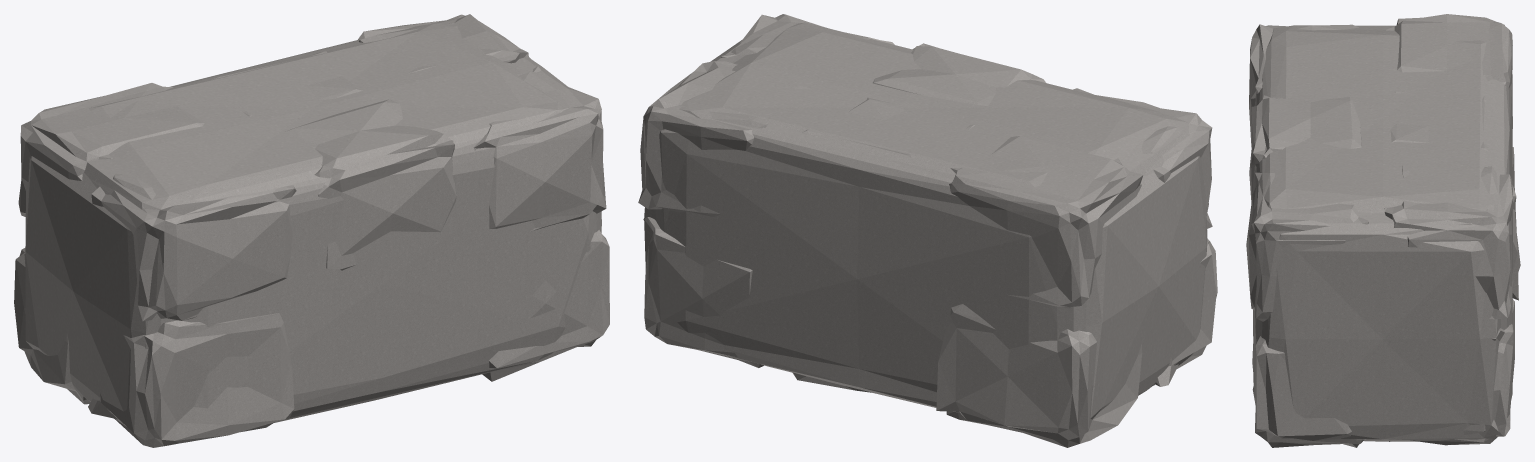
Rendered from concrete_block.glb.
The picture shows the model from 3 angles, left to right: view 1: azimuth 30°, elevation 25°; view 2: azimuth 150°, elevation 25°; view 3: azimuth 270°, elevation 25°; orthographic projection. The views are drawn at different scales.
Visible parts, largest first — view 1: block_intact_mesh, chunk_03, chunk_01, chunk_07, chunk_11, chunk_02, chunk_09, chunk_00, chunk_10, chunk_06; view 2: block_intact_mesh, chunk_00, chunk_02, chunk_08, chunk_10, chunk_07, chunk_03, chunk_01, chunk_11, chunk_06; view 3: block_intact_mesh, chunk_10, chunk_02, chunk_11, chunk_07, chunk_09, chunk_08, chunk_03, chunk_06, chunk_00.
Boxes of the visible parts, x1,y1,x2,y2 form: block_intact_mesh: [25, 22, 601, 442]; chunk_03: [91, 174, 296, 321]; chunk_01: [88, 313, 294, 447]; chunk_07: [284, 99, 456, 270]; chunk_11: [474, 66, 606, 231]; chunk_02: [18, 83, 204, 216]; chunk_09: [482, 230, 609, 381]; chunk_00: [14, 248, 90, 404]; chunk_10: [358, 14, 530, 73]; chunk_06: [211, 51, 362, 116]; block_intact_mesh: [644, 22, 1207, 419]; chunk_00: [936, 304, 1142, 447]; chunk_02: [949, 136, 1143, 308]; chunk_08: [643, 217, 763, 367]; chunk_10: [638, 61, 812, 216]; chunk_07: [872, 43, 1045, 105]; chunk_03: [1073, 88, 1212, 228]; chunk_01: [1153, 238, 1217, 386]; chunk_11: [721, 14, 894, 57]; chunk_06: [801, 97, 974, 157]; block_intact_mesh: [1253, 25, 1512, 441]; chunk_10: [1384, 164, 1513, 319]; chunk_02: [1385, 14, 1512, 128]; chunk_11: [1246, 172, 1368, 321]; chunk_07: [1249, 95, 1361, 202]; chunk_09: [1252, 336, 1364, 447]; chunk_08: [1389, 299, 1514, 445]; chunk_03: [1249, 24, 1358, 146]; chunk_06: [1390, 91, 1489, 151]; chunk_00: [1512, 147, 1520, 300].
Bounding box in the file's own units: 1.21 × 0.6394 × 0.6541.
Materials: 2 (2 with a texture image).
